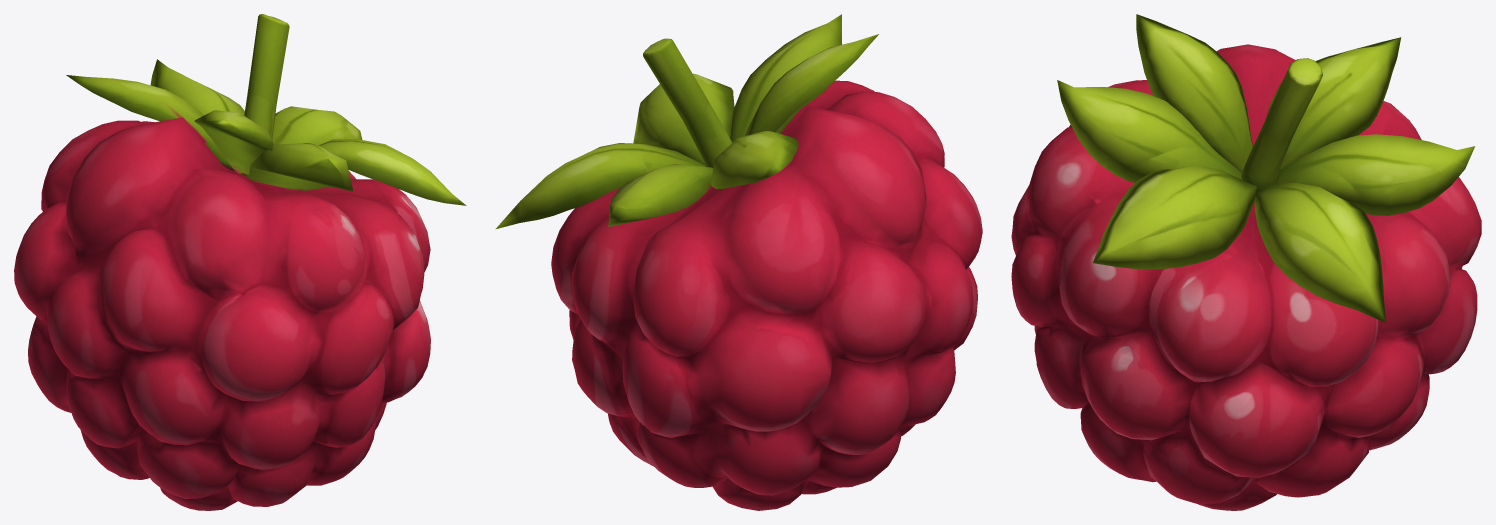
Rendered from raspberry_3d_model.glb.
The picture shows the model from 3 angles, left to right: view 1: azimuth 30°, elevation 25°; view 2: azimuth 150°, elevation 25°; view 3: azimuth 270°, elevation 25°; orthographic projection. The views are drawn at different scales.
Parts seen in each view (by area): view 1: world; view 2: world; view 3: world.
Part boxes in pixels (x1,y1,x2,y2): world: (14,14,466,510); world: (495,14,982,510); world: (1011,14,1481,510).
Size of the model in its own units: 0.8926 by 0.998 by 0.9043.
1 material, 1 textured.
